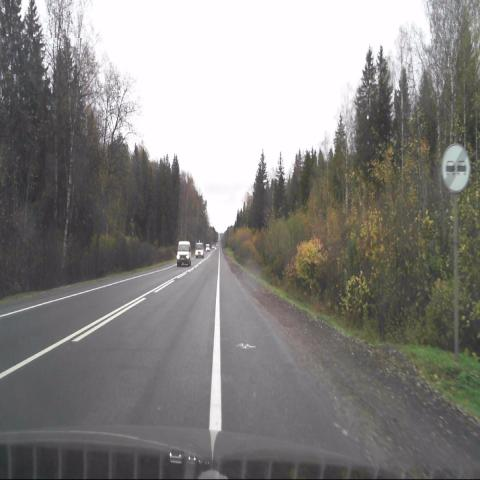3_21: (442, 143, 470, 191)
